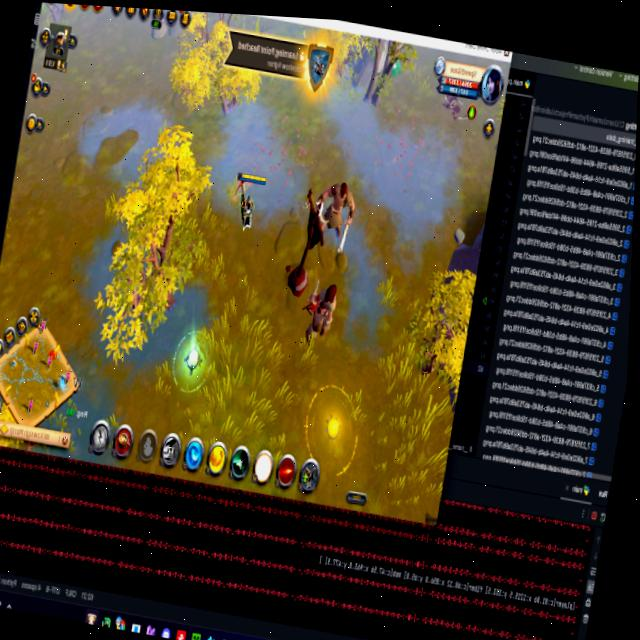ore: (306, 171, 364, 257), (298, 274, 343, 348)
red: (224, 168, 271, 242)
